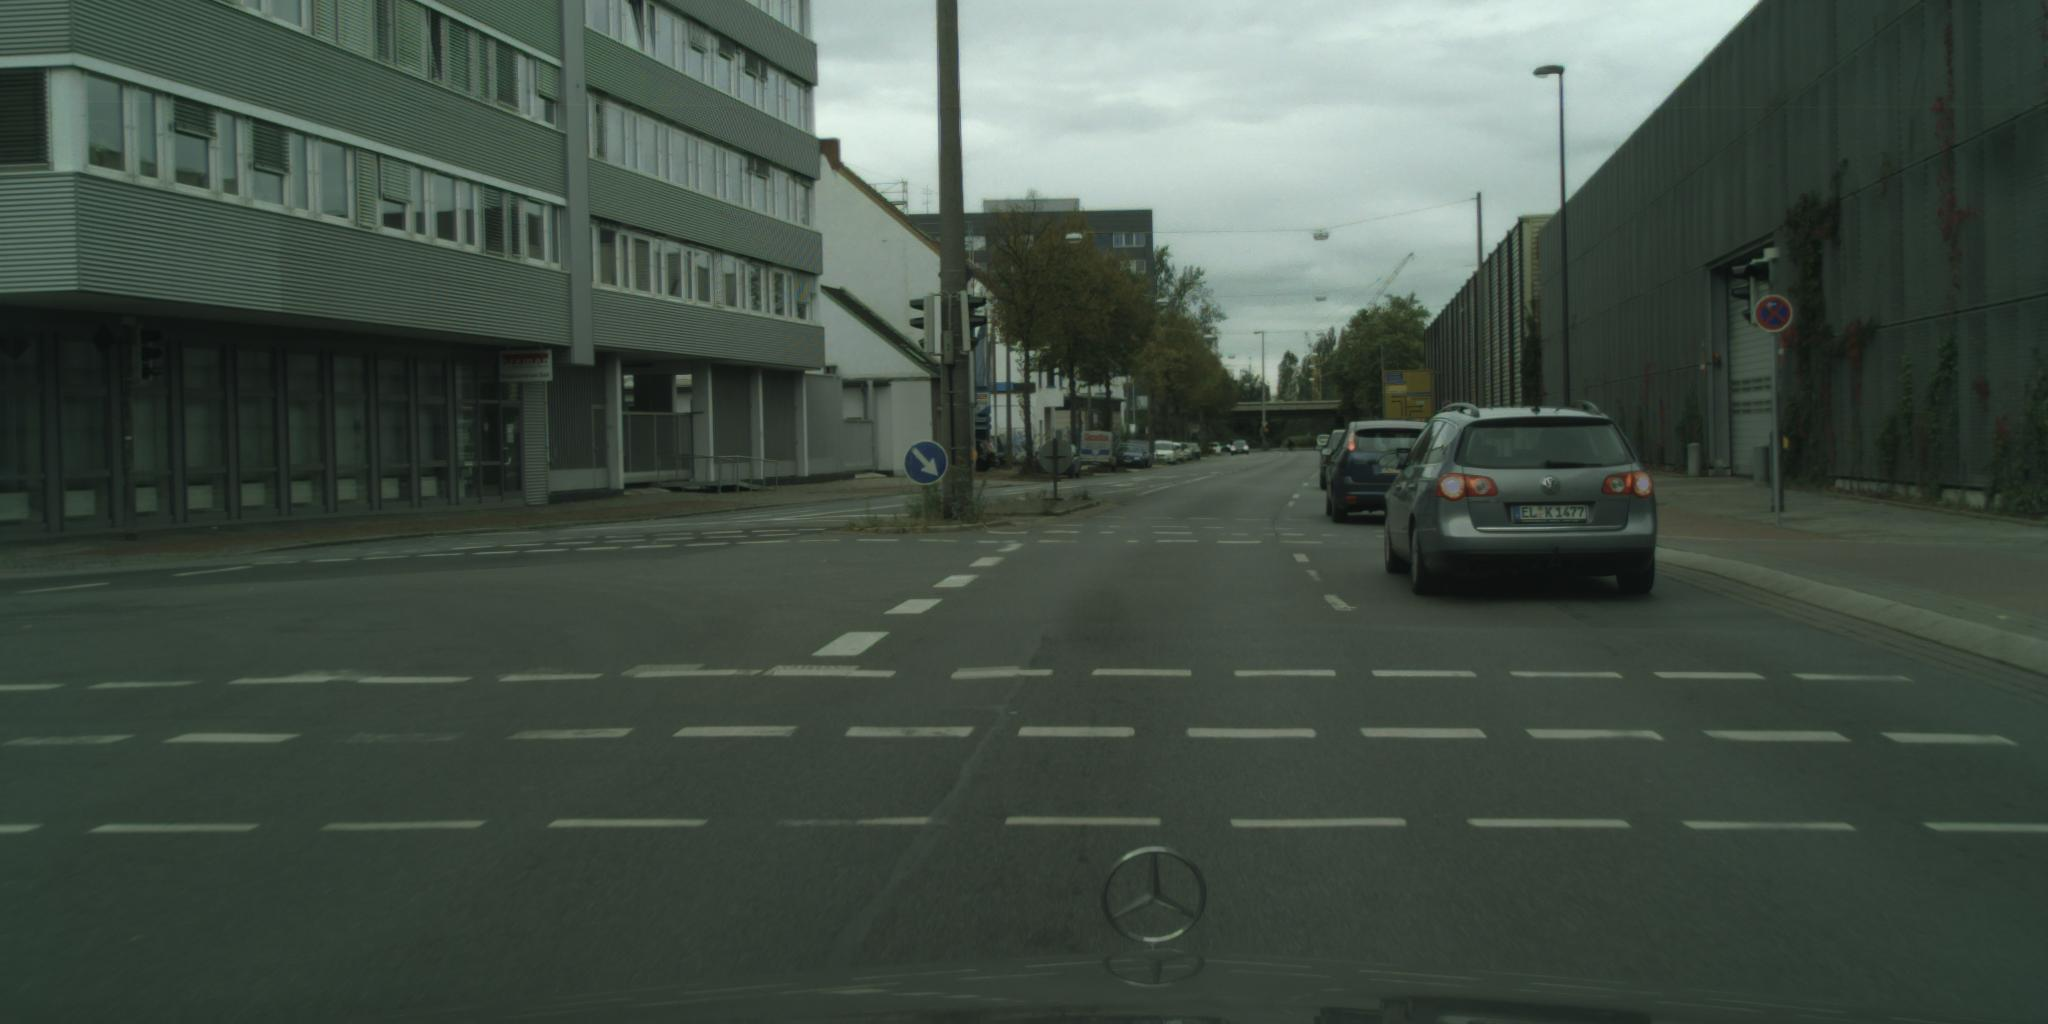car: (1381, 401, 1659, 600), (1320, 421, 1435, 525), (1317, 430, 1351, 491), (1034, 443, 1084, 481), (1317, 435, 1332, 452)
